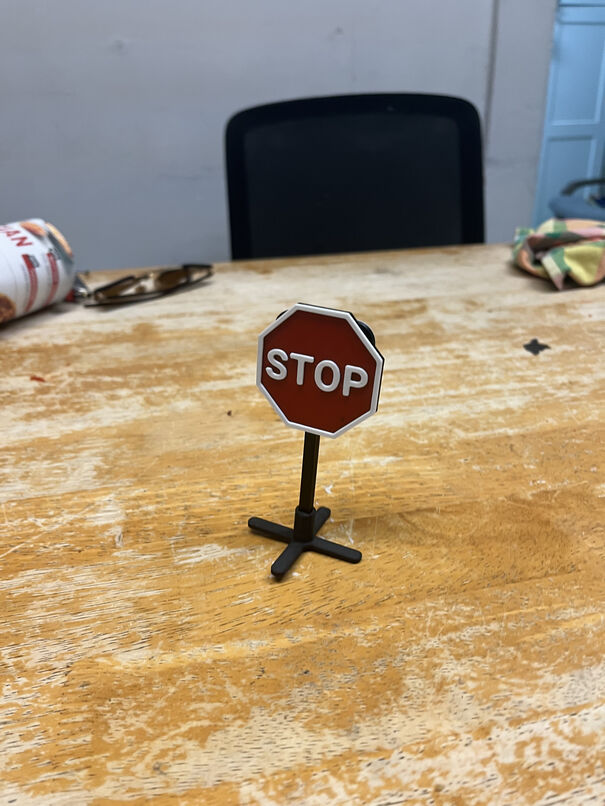sign_stop: (252, 301, 386, 438)
